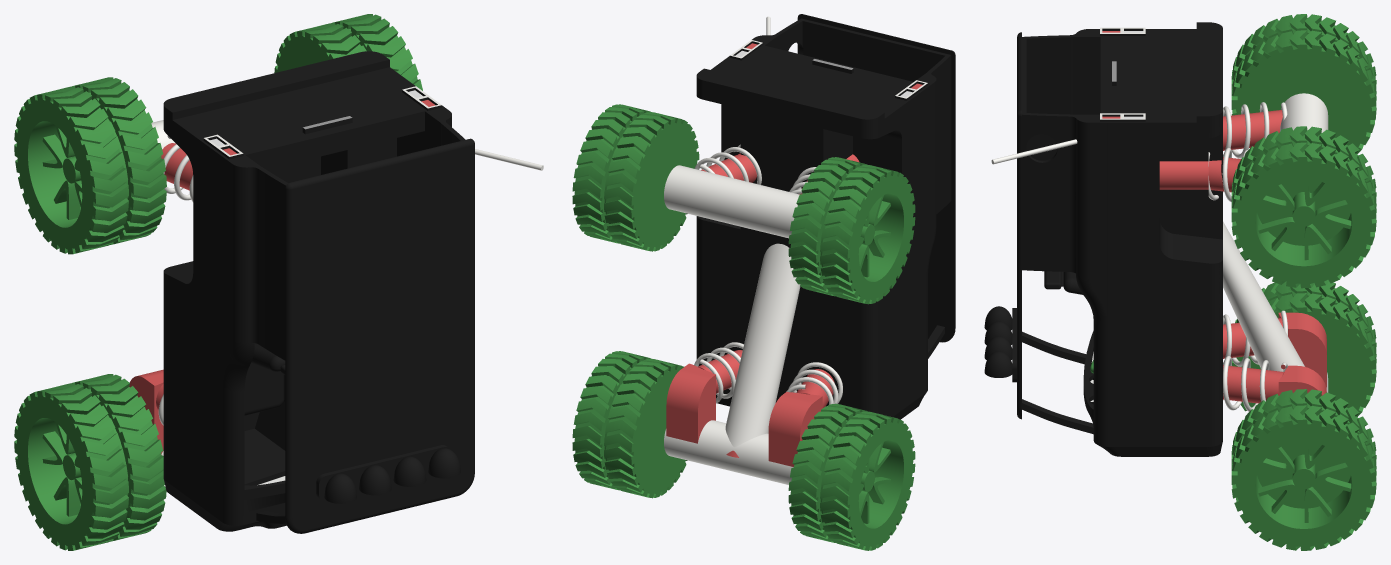
Rendered from mon$ter_truck v20.fbx.
3 renders of one model, left to right at view 1: azimuth 30°, elevation 25°; view 2: azimuth 150°, elevation 25°; view 3: azimuth 270°, elevation 25°, orthographic. The views are drawn at different scales.
Parts seen in each view (by area): view 1: Body11, Body14, Body12, Body13, Body1, Body8, Body7; view 2: Body11, Body1, Body14, Body12, Body13, Body6, Body5, Body9; view 3: Body11, Body6, Body13, Body14, Body1, Body12, Body5, Body8, Body7.
Part boxes in pixels (x1,y1,x2,y2): Body11: (163, 51, 543, 533); Body14: (14, 77, 166, 254); Body12: (14, 374, 166, 550); Body13: (274, 14, 422, 90); Body1: (129, 369, 163, 455); Body8: (161, 143, 192, 190); Body7: (163, 135, 193, 202); Body11: (696, 14, 955, 419); Body1: (664, 243, 842, 484); Body14: (788, 157, 915, 304); Body12: (788, 403, 915, 550); Body13: (572, 104, 699, 251); Body6: (572, 351, 687, 498); Body5: (664, 165, 799, 238); Body9: (694, 144, 761, 184); Body11: (984, 22, 1241, 456); Body6: (1231, 389, 1376, 550); Body13: (1231, 126, 1376, 288); Body14: (1231, 14, 1376, 154); Body1: (1223, 221, 1328, 411); Body12: (1232, 281, 1376, 416); Body5: (1280, 93, 1328, 132); Body8: (1223, 110, 1282, 150); Body7: (1223, 102, 1287, 158).
Size of the model in its own units: 140 by 187 by 162.
